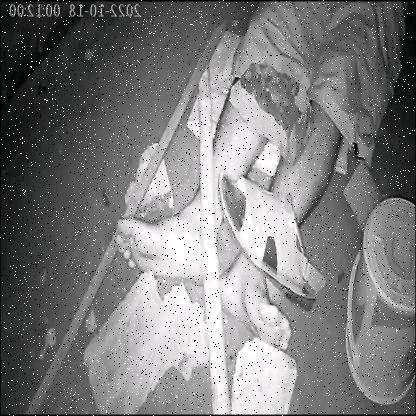leg: (108, 92, 268, 292), (211, 250, 300, 352)
